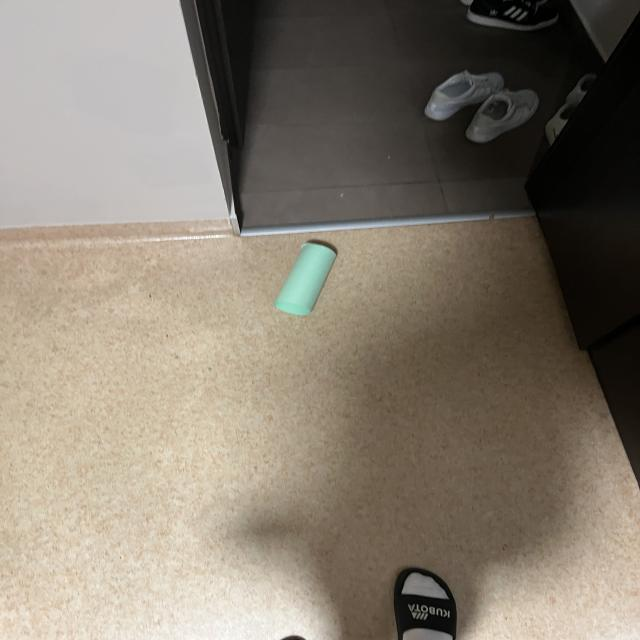meta: (274, 242, 336, 315)
